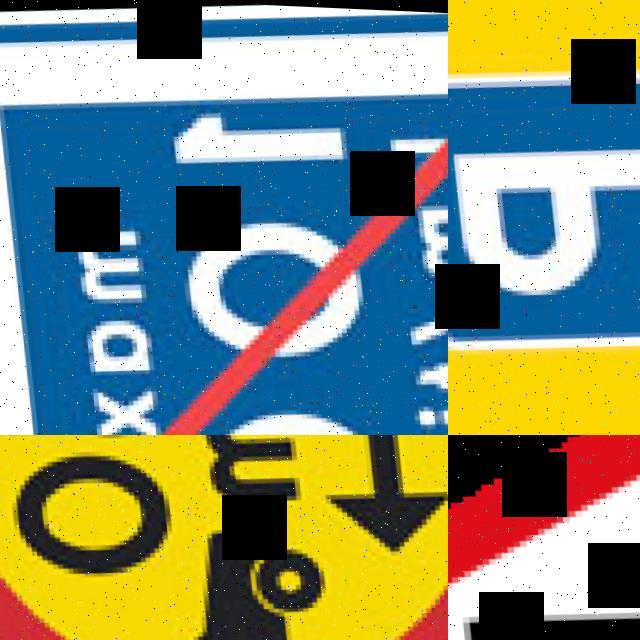103: (0, 0, 448, 435)
50 meters between vehicles: (0, 435, 448, 640)
Parking allowed for 15min: (448, 0, 640, 435)
Side road junction: (448, 435, 640, 640)
